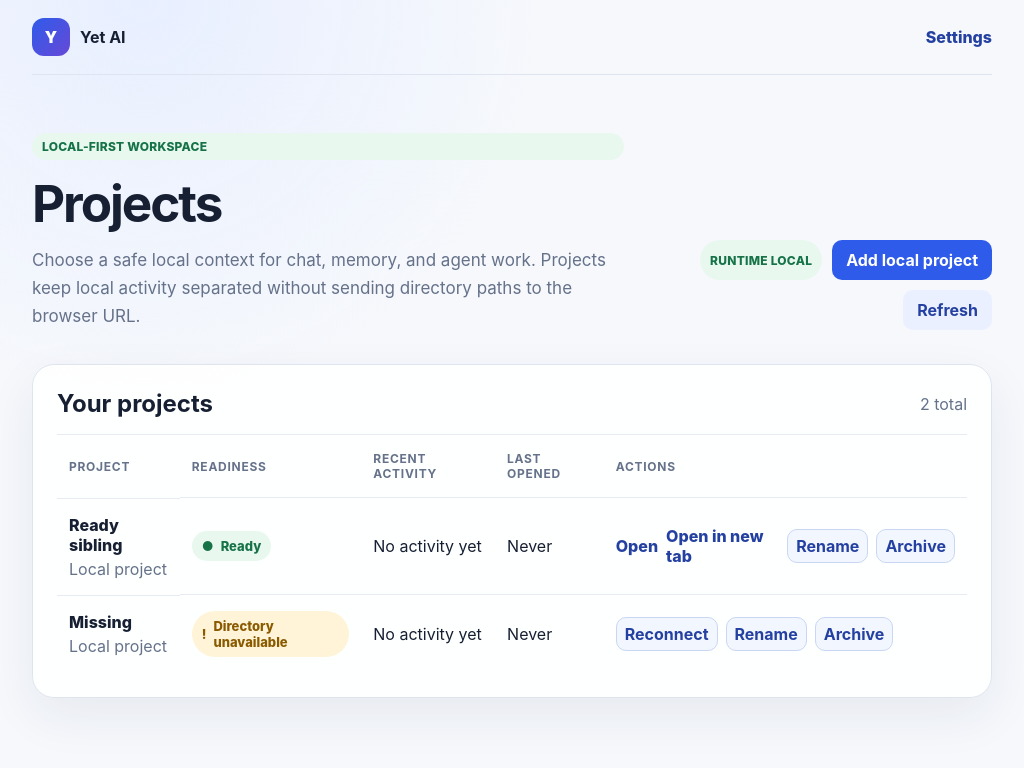
it: ProjectHub › reconnects a missing row under the same opaque project identity
Click the button with aria-label "Reconnect project Missing" at [667, 634], box [616, 617, 718, 651]
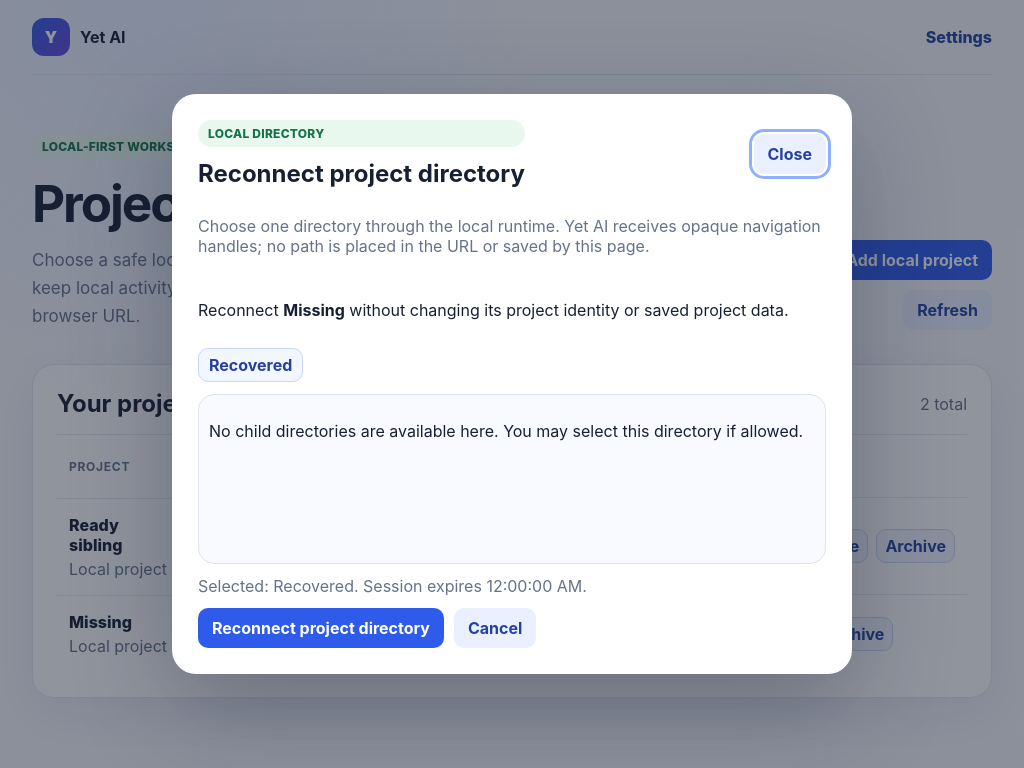
Now the text "Reconnect project directory" is shown, box [198, 159, 525, 188]
Submit the form, box [198, 576, 587, 648]
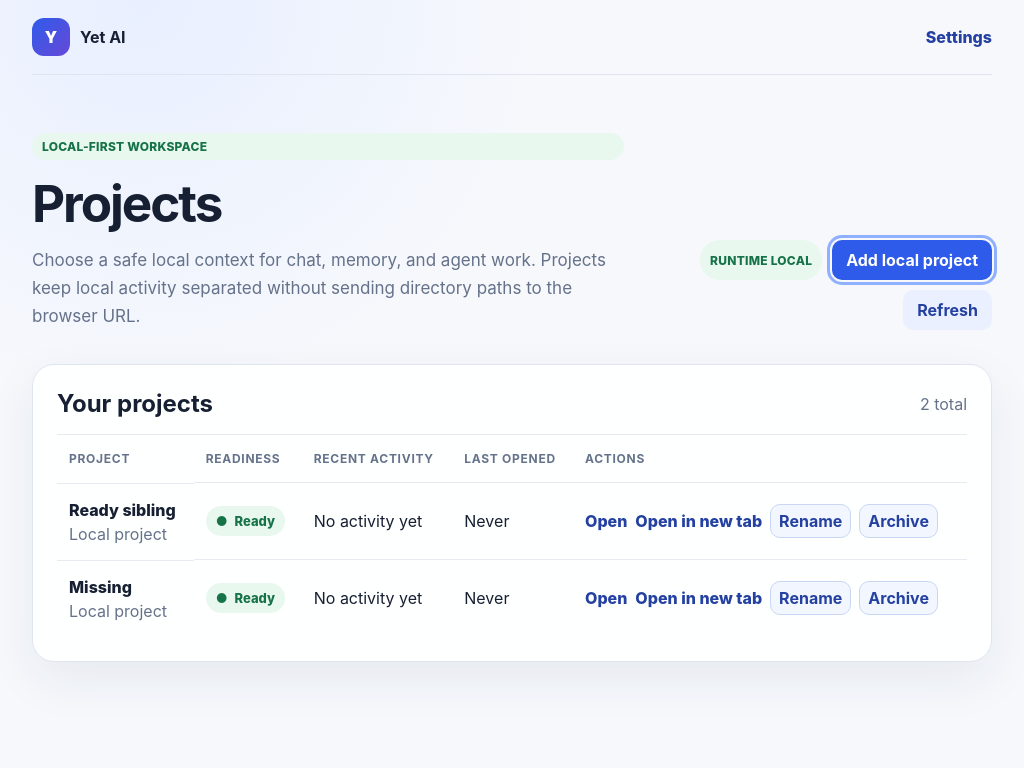
Now the row that starts with "Missing" shows "Ready", box [234, 590, 275, 606]
